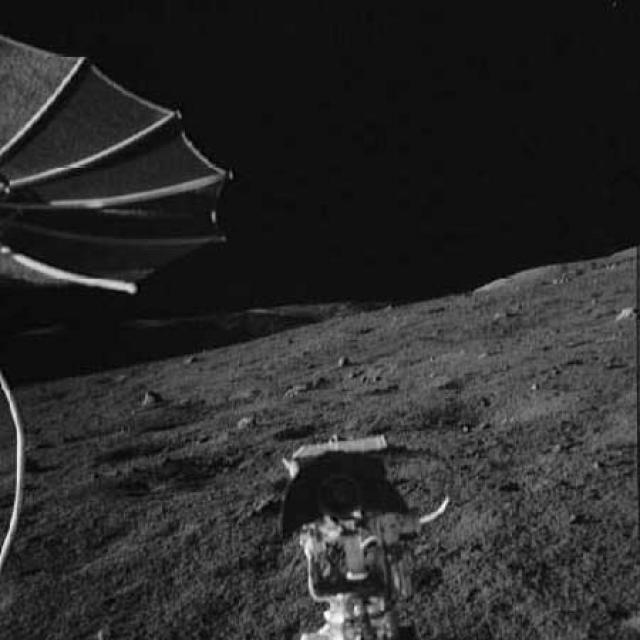artifact: (0, 35, 252, 314), (260, 438, 470, 639), (0, 374, 43, 591)
crater: (388, 390, 593, 430), (83, 438, 203, 462)
rock: (143, 389, 174, 411), (336, 352, 356, 371)
